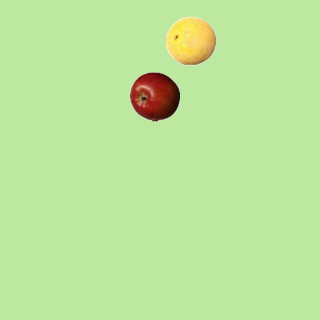Apple Braeburn: (129, 71, 179, 121)
Cantaloupe 1: (165, 15, 215, 65)
